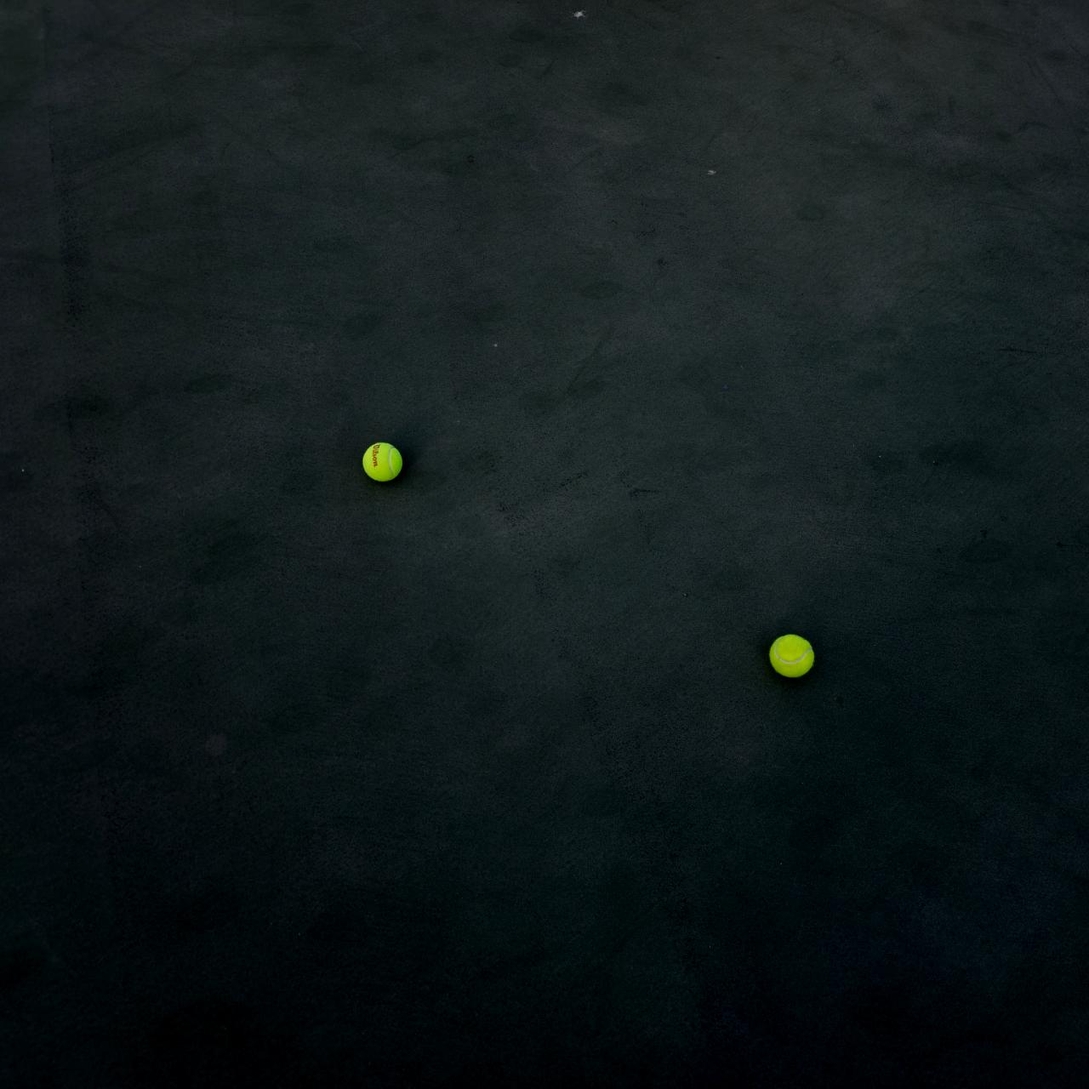tennis-ball: (767, 630, 816, 679), (360, 438, 403, 483)
